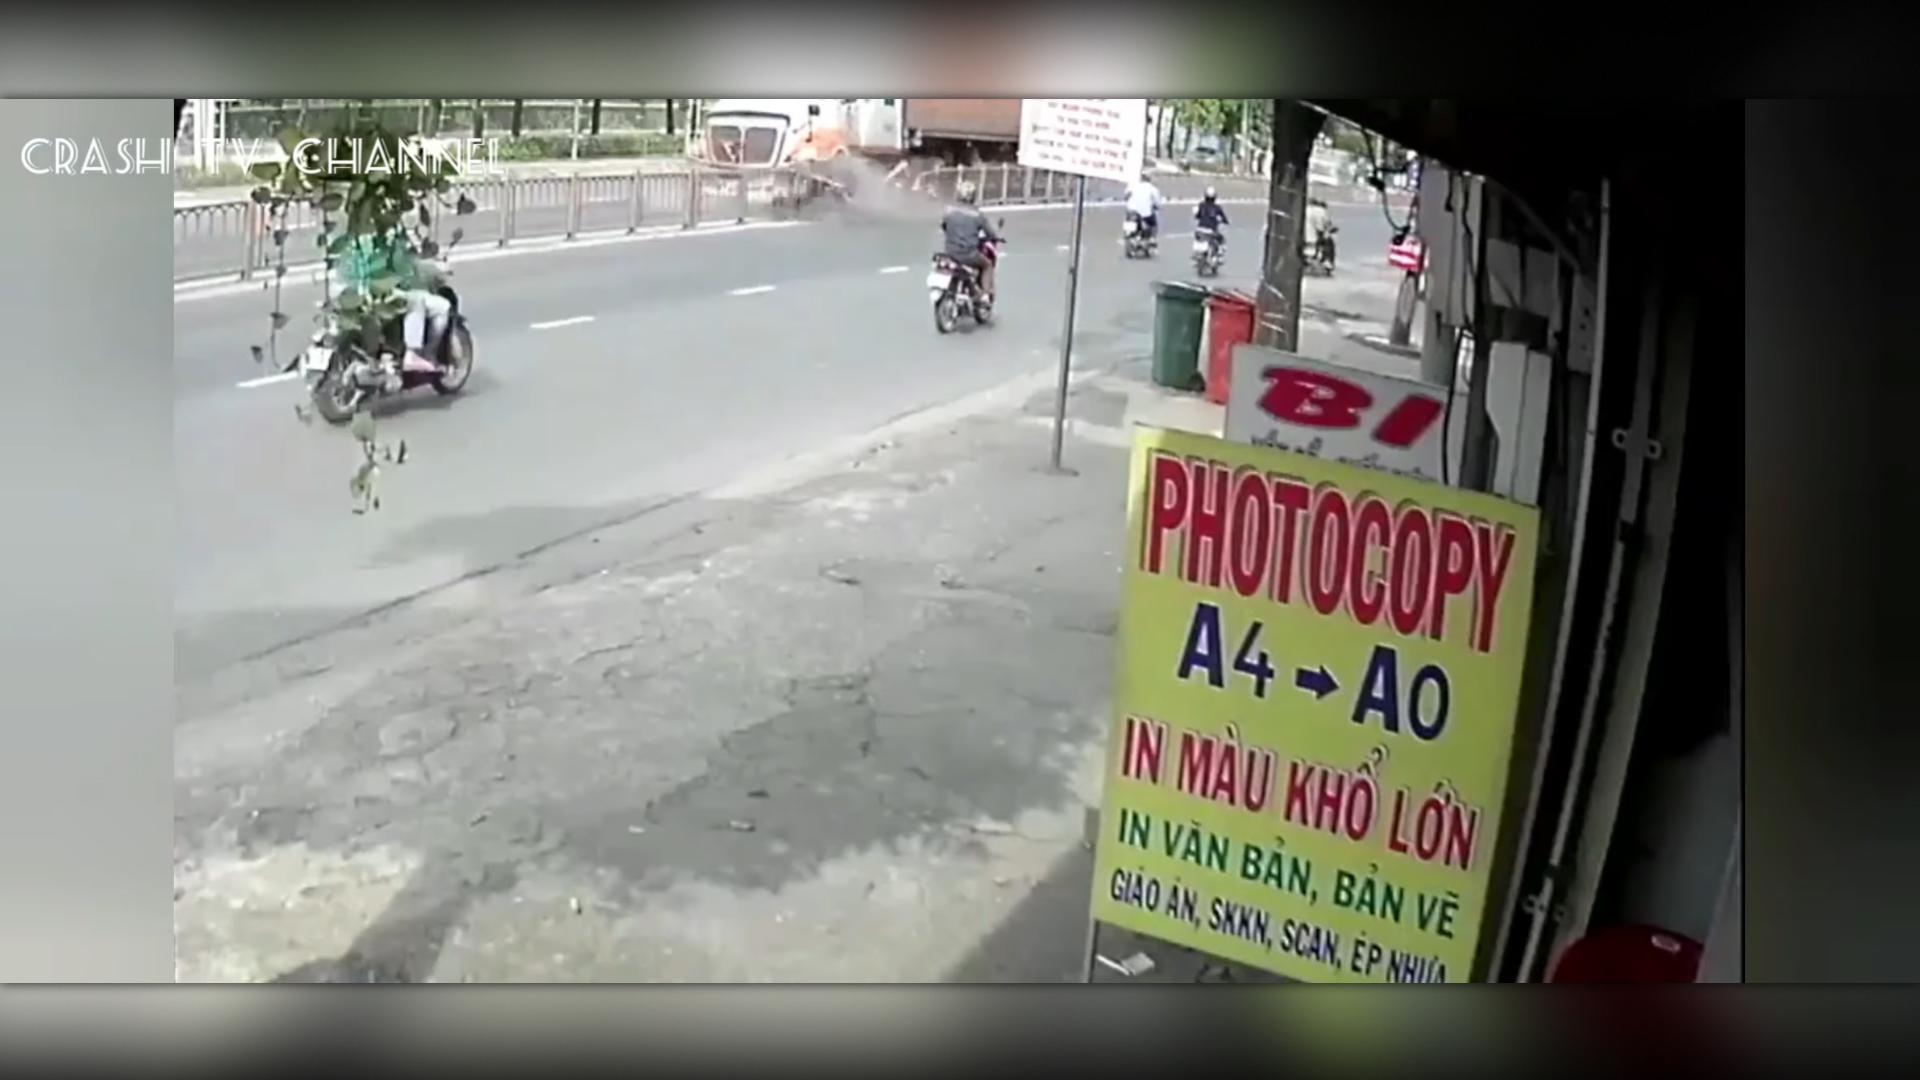accident: (774, 125, 910, 223)
truck: (663, 96, 918, 216)
